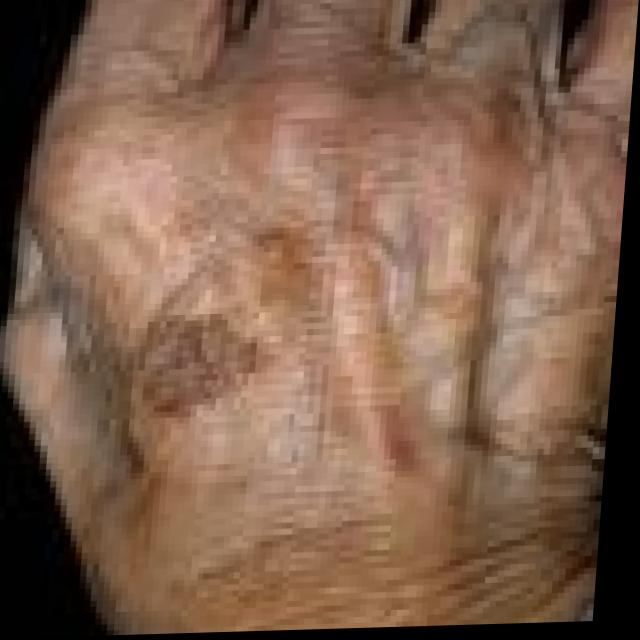Melasma: (123, 310, 234, 409)
